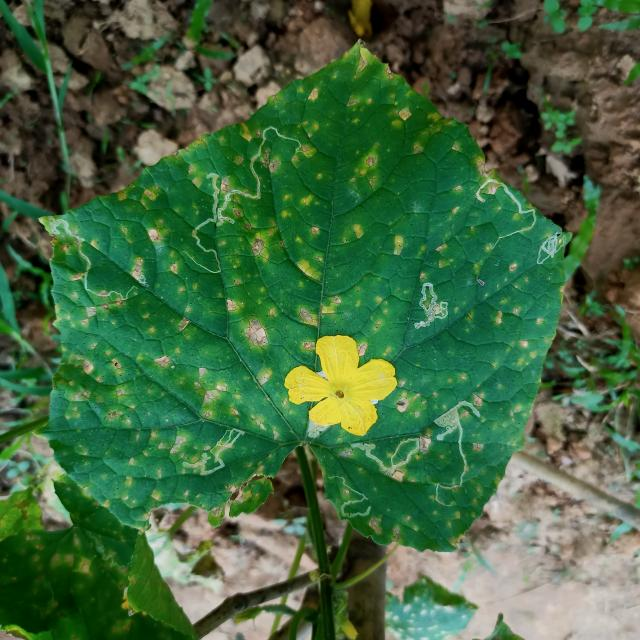disease_cucumber: (73, 79, 546, 525)
